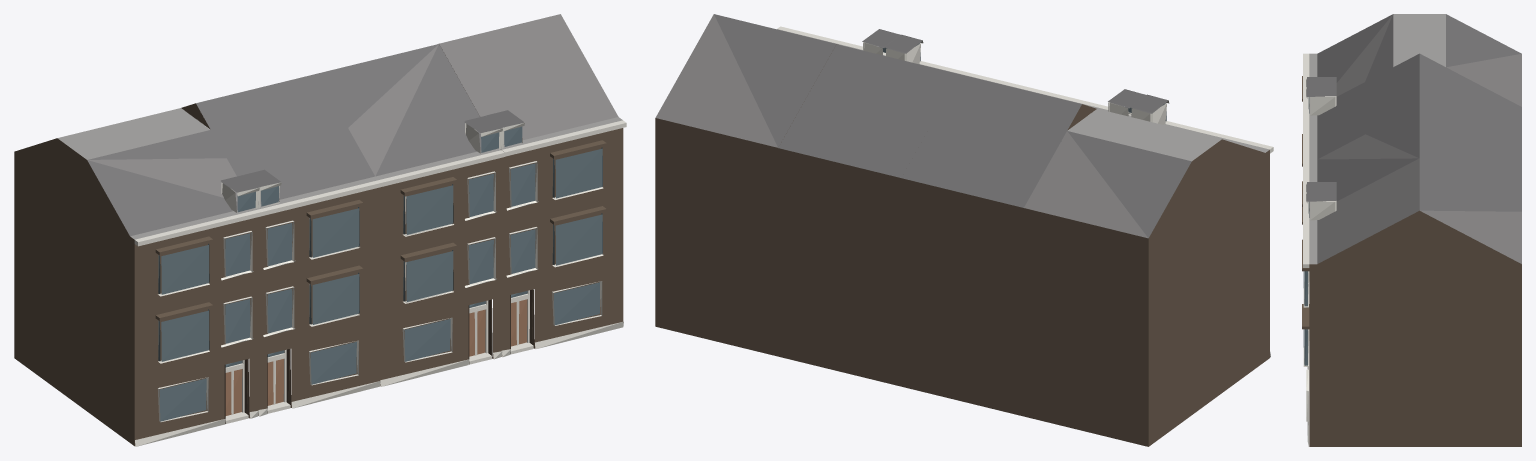
The model's file is chunk-face-treslong-21-35-b.lod2.glb.
3 views of the same model, side by side, from view 1: azimuth 30°, elevation 25°; view 2: azimuth 150°, elevation 25°; view 3: azimuth 270°, elevation 25° (orthographic). The views are drawn at different scales.
Visible parts, largest first — view 1: lod2; view 2: lod2; view 3: lod2.
Part boxes in pixels (bbox=[...]): lod2: bbox=[14, 14, 626, 446]; lod2: bbox=[655, 14, 1273, 446]; lod2: bbox=[1302, 14, 1521, 446].
Size of the model in its own units: 24.5 by 12.81 by 10.81.
